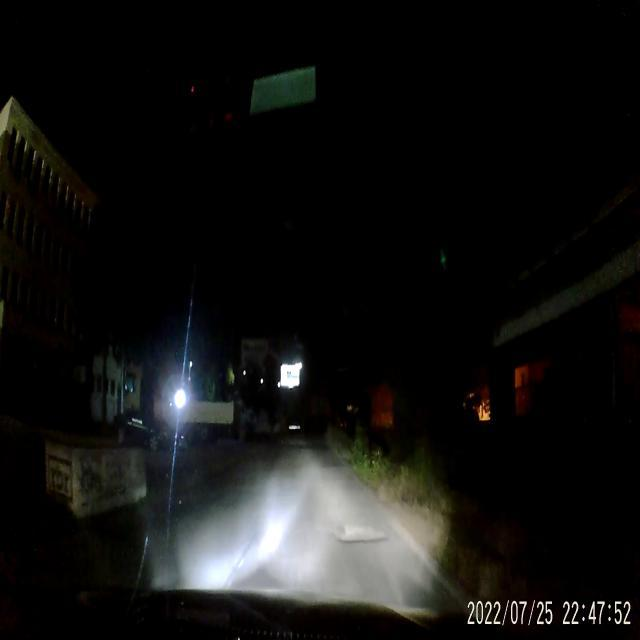Pothole: (330, 520, 390, 548)
